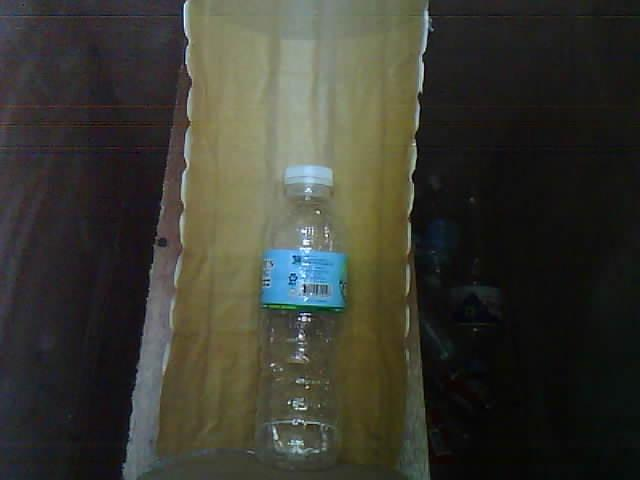small_bottle: (242, 156, 367, 480)
